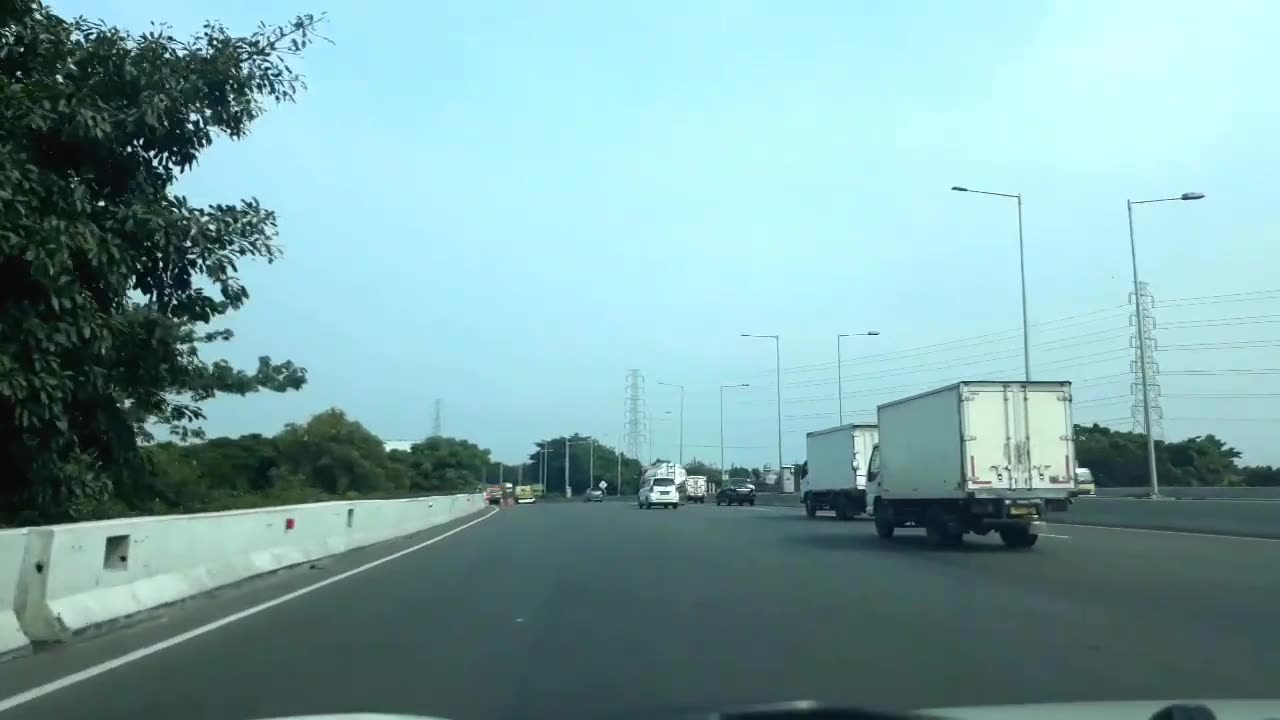plate_positive: (1009, 506, 1037, 515), (660, 491, 670, 495)
